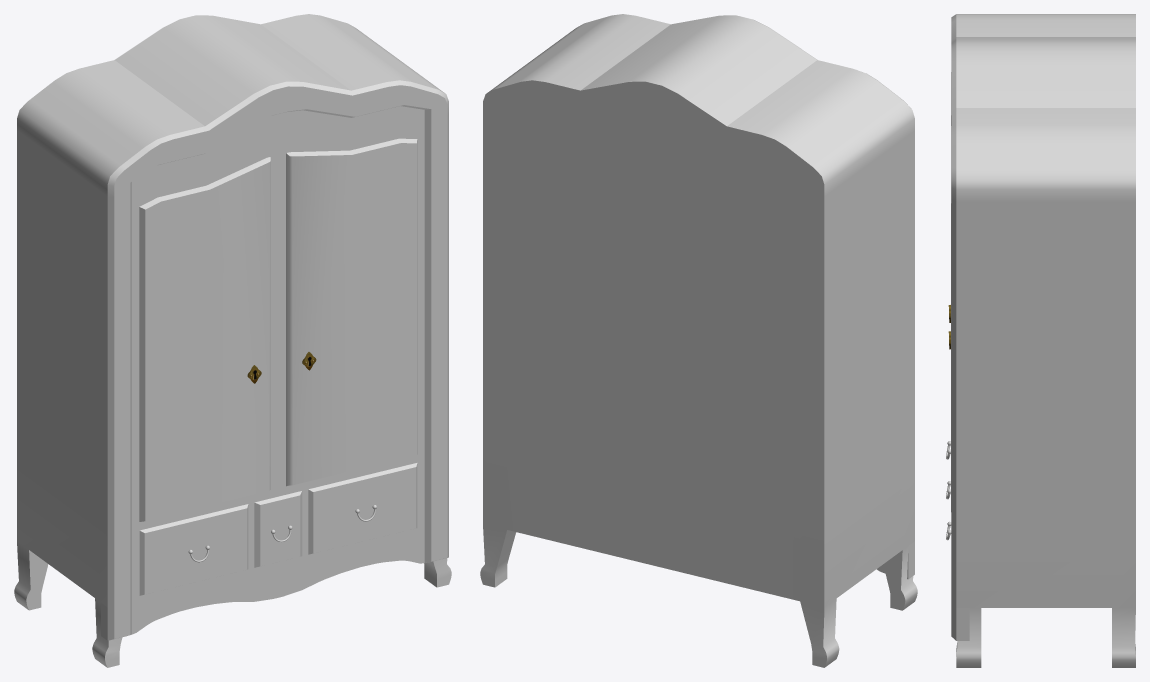
Rendered from Chest.fbx.
3 views of the same model, side by side, from view 1: azimuth 30°, elevation 25°; view 2: azimuth 150°, elevation 25°; view 3: azimuth 270°, elevation 25° (orthographic).
Visible parts, largest first — view 1: Box018; view 2: Box018; view 3: Box018.
Part boxes in pixels (x1=…): Box018: x1=14, y1=14, x2=451, y2=667; Box018: x1=480, y1=14, x2=917, y2=667; Box018: x1=951, y1=14, x2=1135, y2=667.
Bounding box in the file's own units: 8.64 × 4.13 × 12.91.
